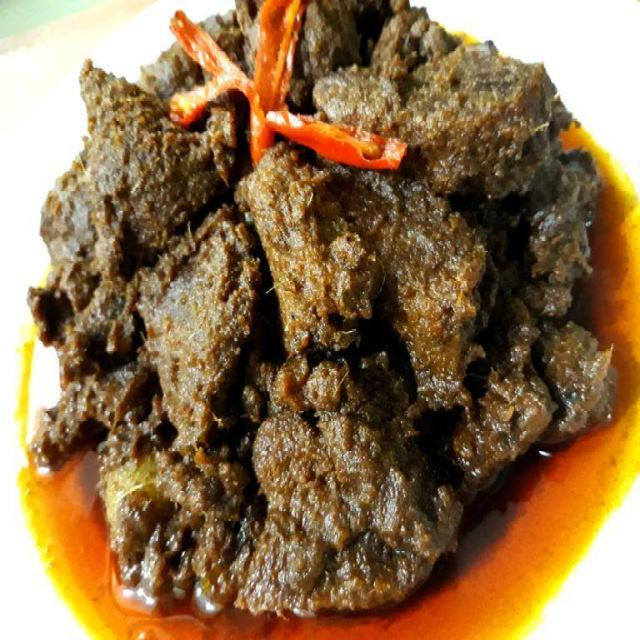Rendang: (0, 3, 624, 622)
